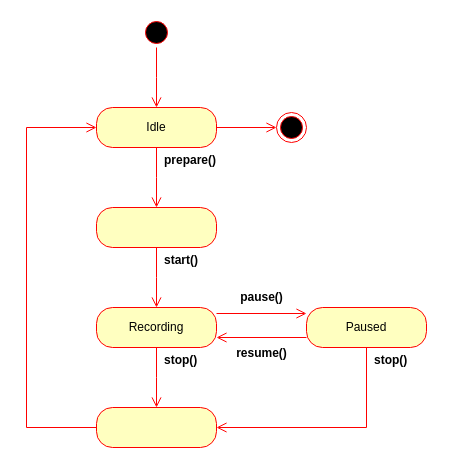
This 454x465 diagram has some shape labels left out. Here are the shapes that lost their labels. From the top down, the centre of each, then its label:
At pixel 156 227: "Ready".
At pixel 156 427: "Finalizing".
